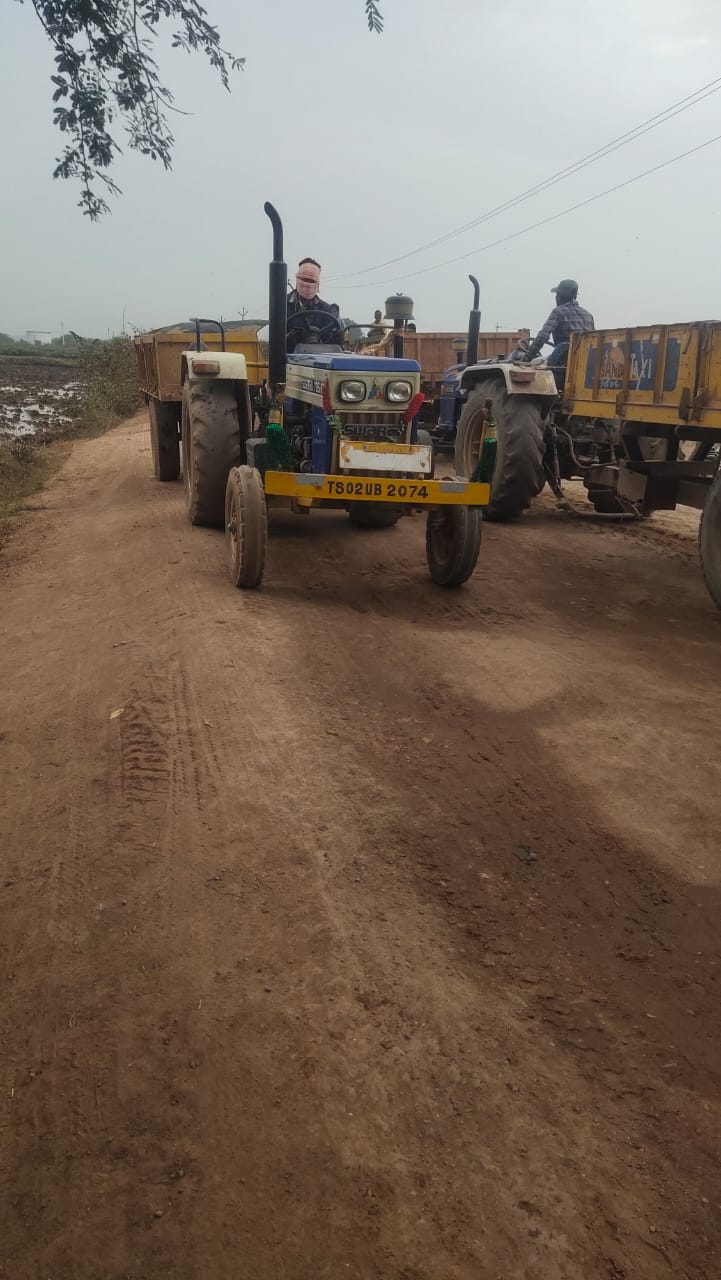num_plate: (324, 476, 433, 502)
